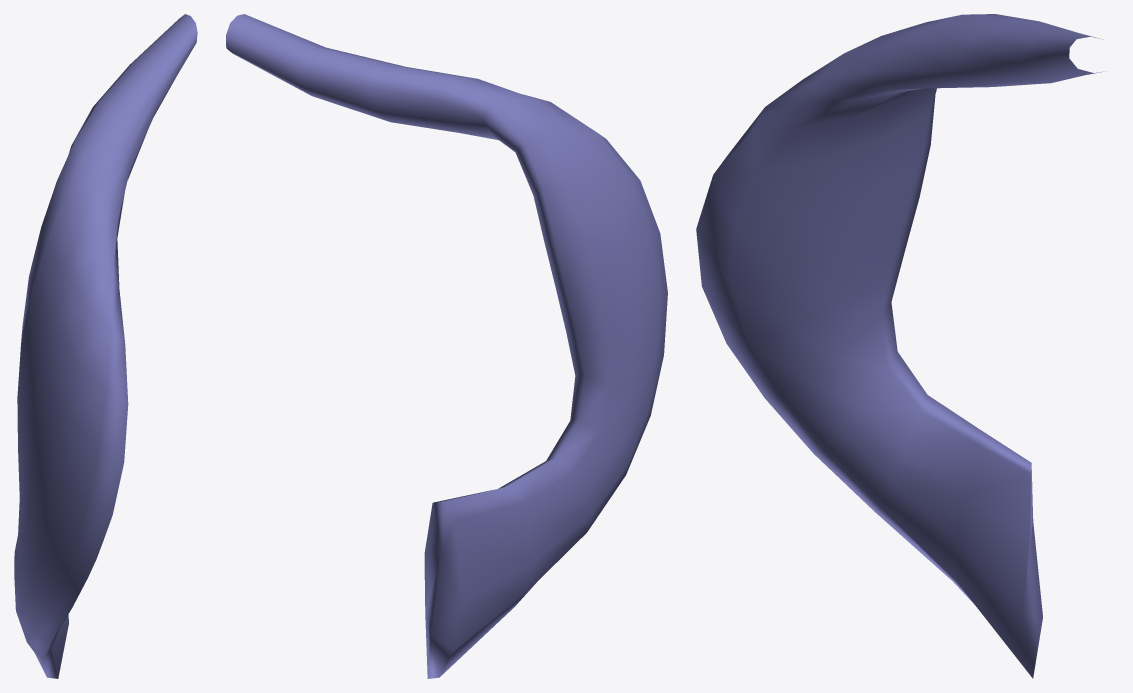
Rendered from Carebellum_Part_A_Trans.gltf.
The picture shows the model from 3 angles, left to right: view 1: azimuth 30°, elevation 25°; view 2: azimuth 150°, elevation 25°; view 3: azimuth 270°, elevation 25°; orthographic projection. The views are drawn at different scales.
Parts seen in each view (by area): view 1: Carebellum_Part_A; view 2: Carebellum_Part_A; view 3: Carebellum_Part_A.
Boxes of the visible parts, x1,y1,x2,y2 form: Carebellum_Part_A: [14, 14, 197, 678]; Carebellum_Part_A: [226, 14, 667, 678]; Carebellum_Part_A: [696, 14, 1103, 678].
Size of the model in its own units: 1.2 by 2.57 by 1.34.
